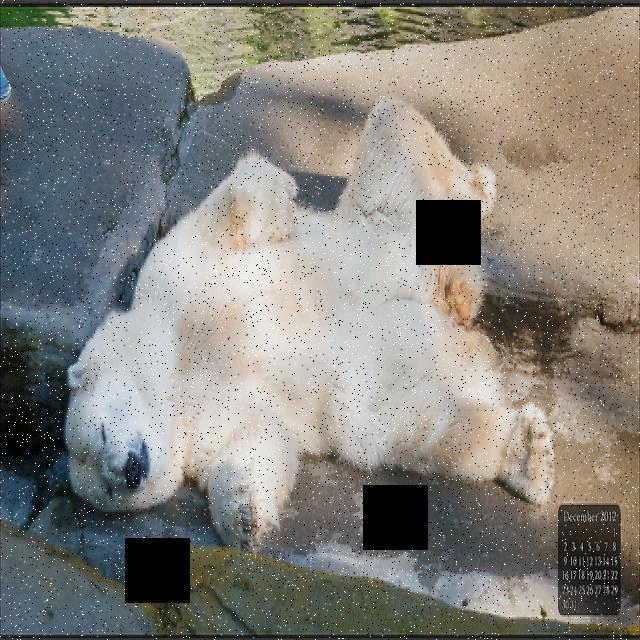Bear: (62, 92, 555, 546)
